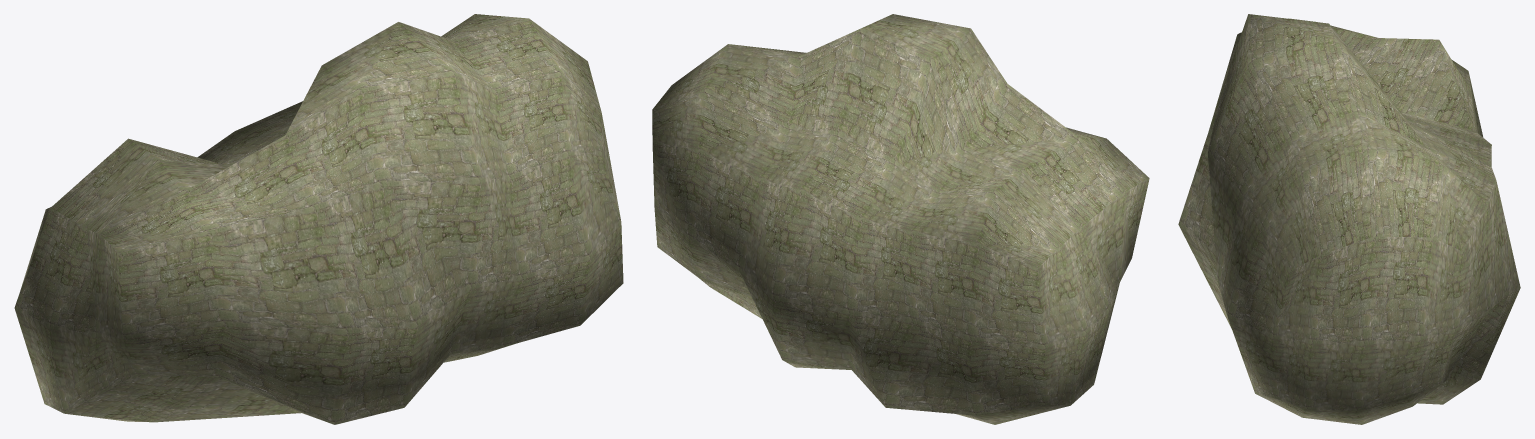
File: SM_Chateaux_06_05.fbx
3 renders of one model, left to right at view 1: azimuth 30°, elevation 25°; view 2: azimuth 150°, elevation 25°; view 3: azimuth 270°, elevation 25°, orthographic. The views are drawn at different scales.
Parts seen in each view (by area): view 1: SM_Chateaux_06_05; view 2: SM_Chateaux_06_05; view 3: SM_Chateaux_06_05.
Part boxes in pixels (x1=…): SM_Chateaux_06_05: x1=14, y1=14, x2=623, y2=424; SM_Chateaux_06_05: x1=652, y1=14, x2=1149, y2=424; SM_Chateaux_06_05: x1=1178, y1=14, x2=1520, y2=424.
Size of the model in its own units: 252 by 173 by 147.
